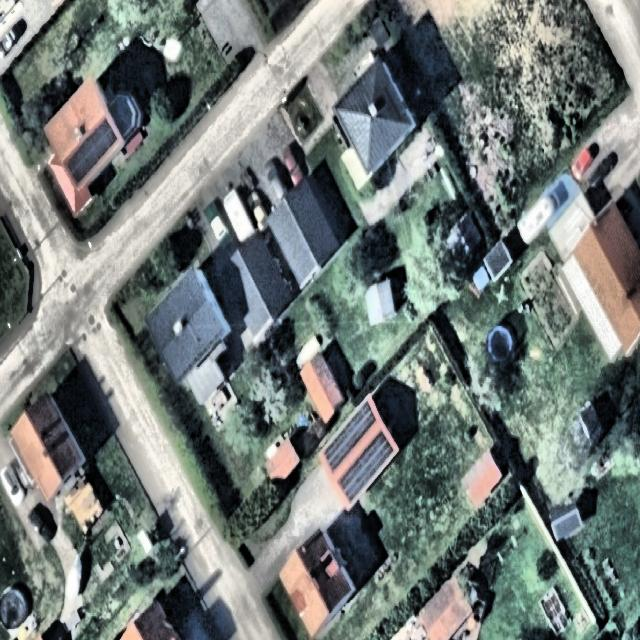roof_pv: (59, 116, 121, 188), (336, 454, 369, 506), (363, 427, 394, 482), (348, 397, 378, 448), (322, 424, 352, 474)
